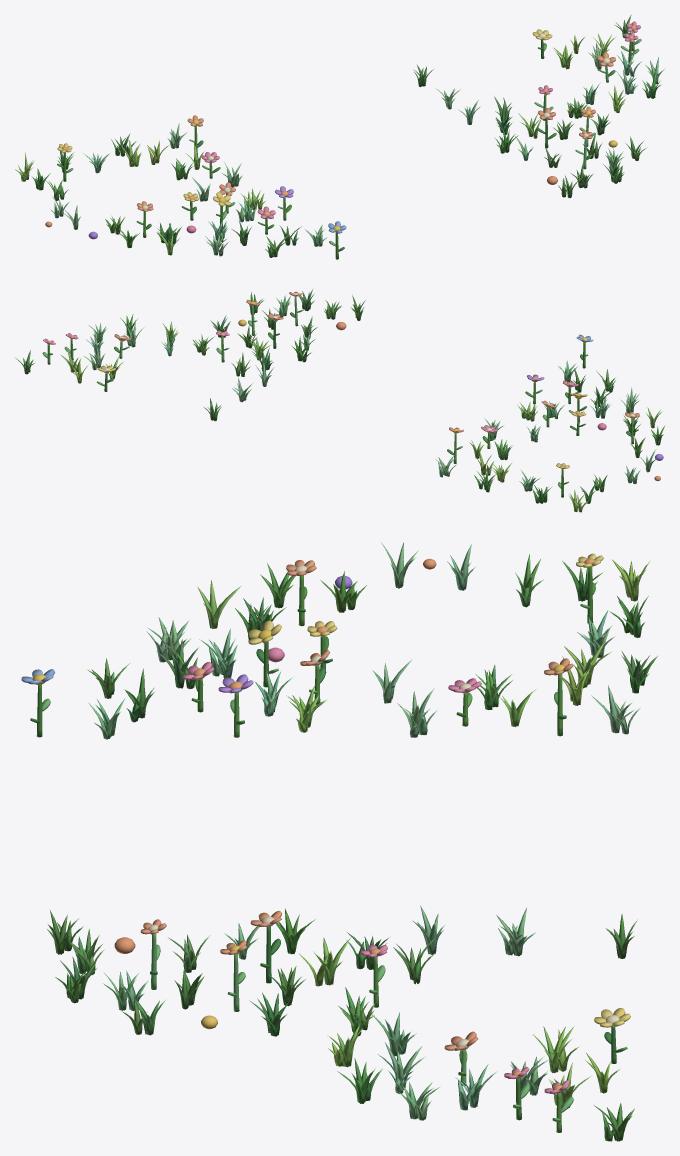
The model's file is W1_SpillFlora.fbx.
3 views of the same model, one above another, from view 1: azimuth 30°, elevation 25°; view 2: azimuth 150°, elevation 25°; view 3: azimuth 270°, elevation 25° (orthographic). The views are drawn at different scales.
Parts seen in each view (by area): view 1: W1_SpillFlora; view 2: W1_SpillFlora; view 3: W1_SpillFlora.
Part boxes in pixels (box(x1,y1,x2,y2)): W1_SpillFlora: box(15, 15, 664, 259); W1_SpillFlora: box(15, 289, 664, 512); W1_SpillFlora: box(21, 542, 657, 1141).
Size of the model in its own units: 2.54 by 0.1494 by 1.18.
